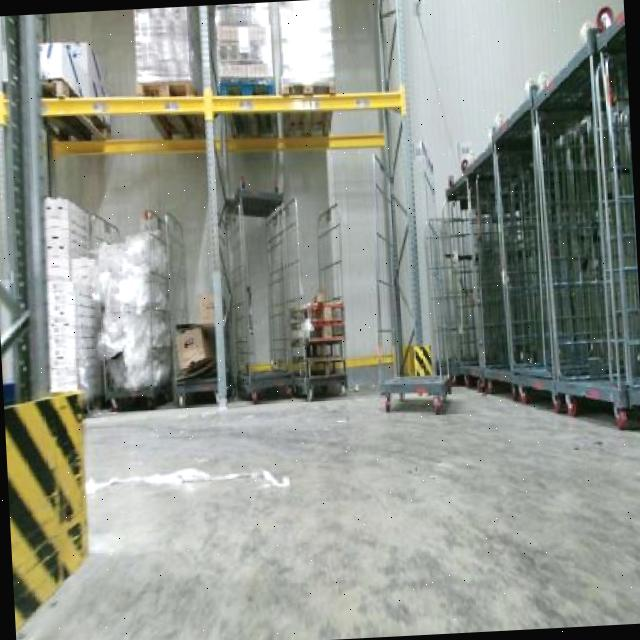pallet: (128, 73, 200, 104), (276, 72, 348, 102), (212, 72, 279, 98)
